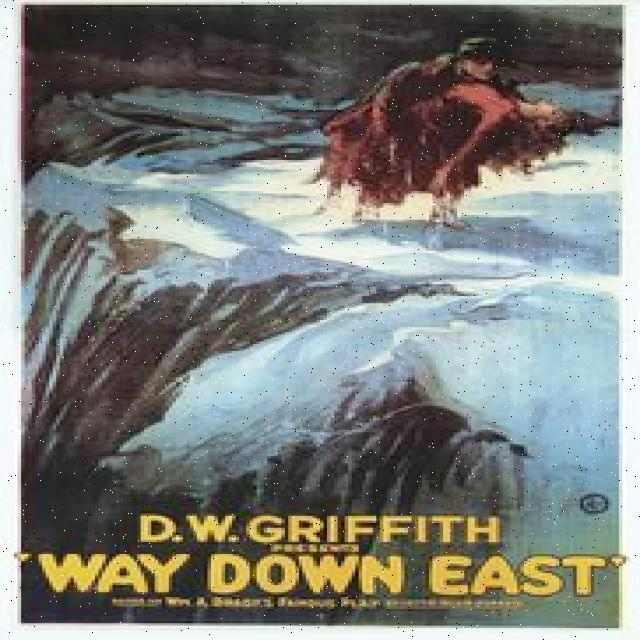movie-judul: (32, 512, 625, 622)
picture: (308, 32, 618, 260)
